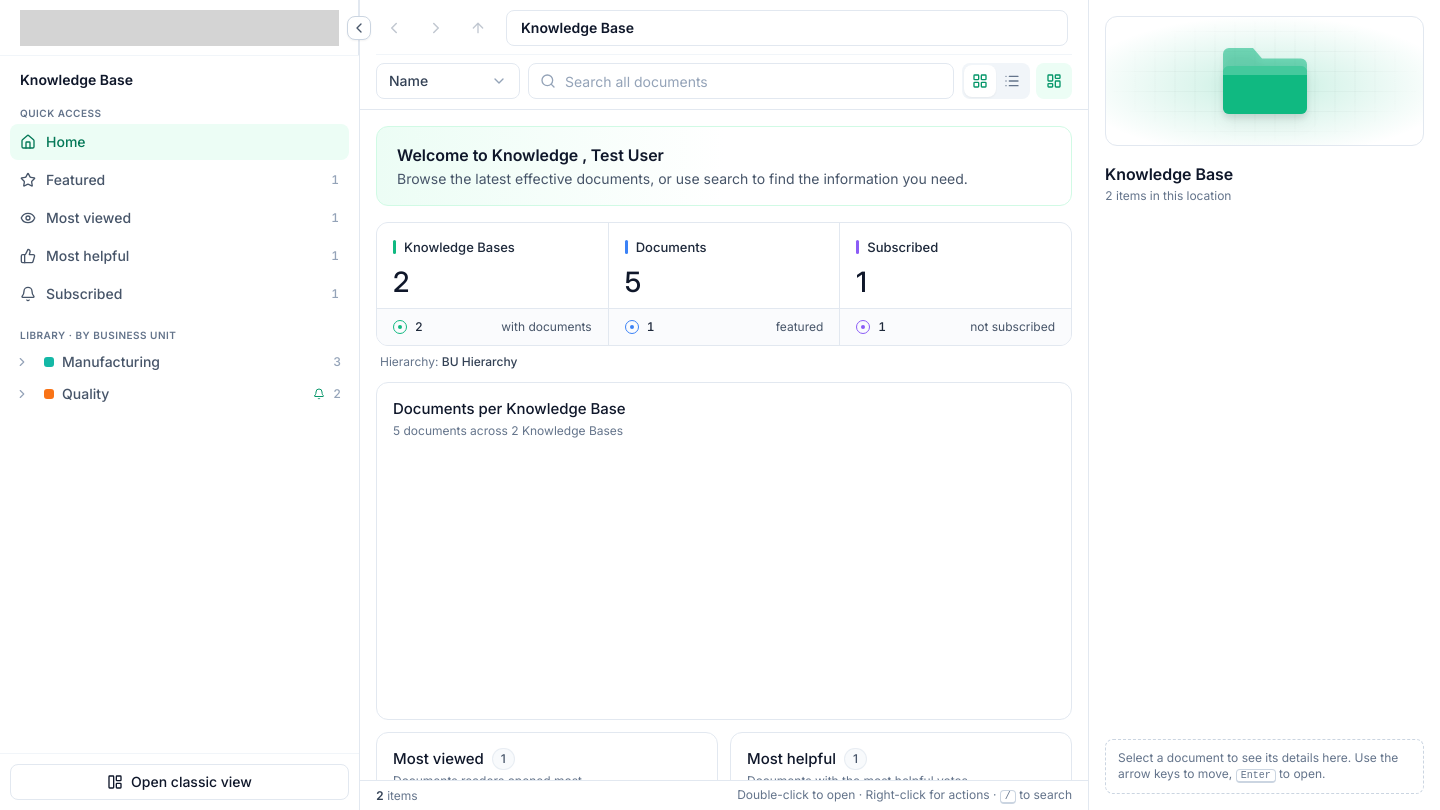
Test: KnowledgeExplorerPage › says so when a search finds nothing
In the field labelled "Search all documents": (741, 81) [528, 63, 954, 99], type "zzzz"
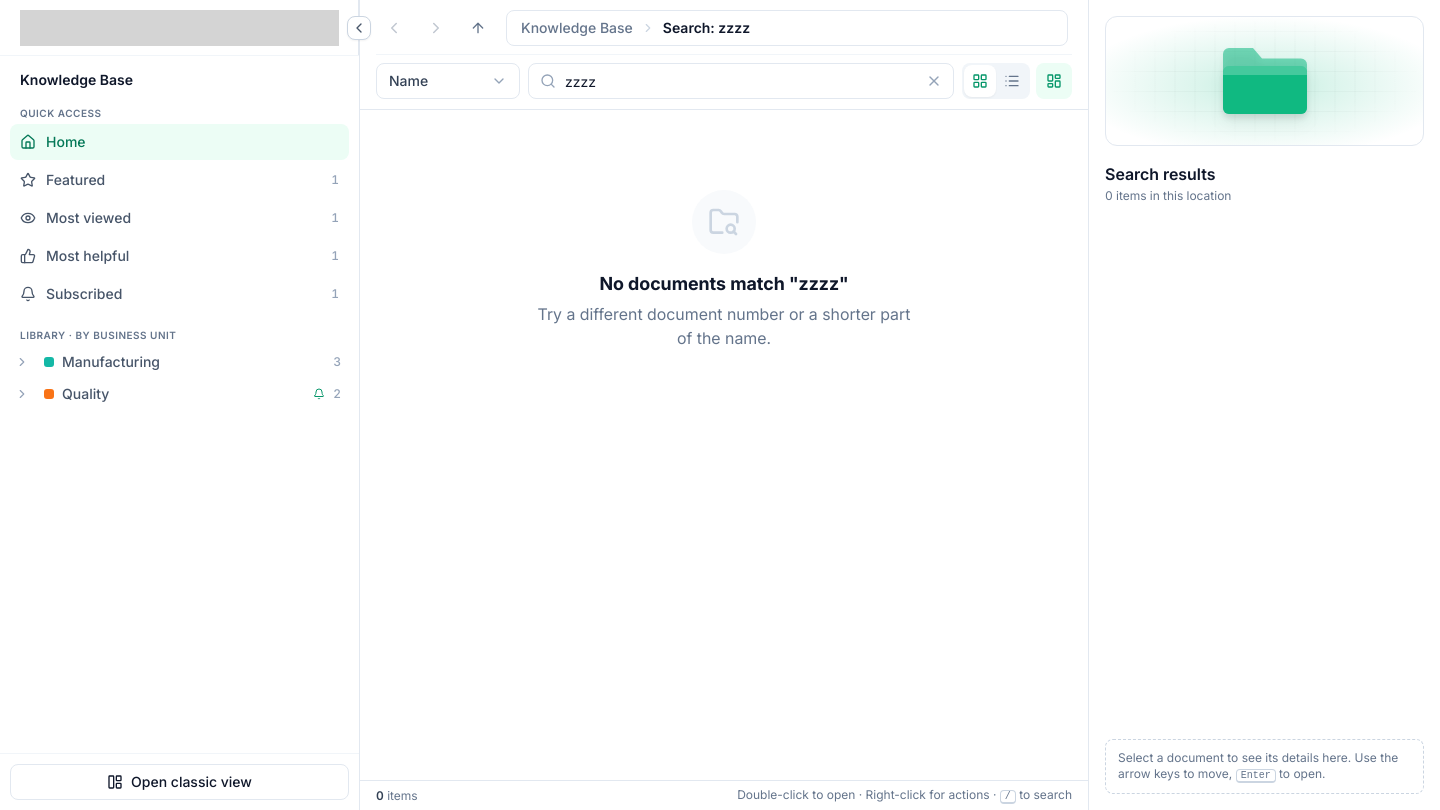
Expected: the heading "No documents match \"zzzz\"" is shown, [599, 270, 849, 298]
